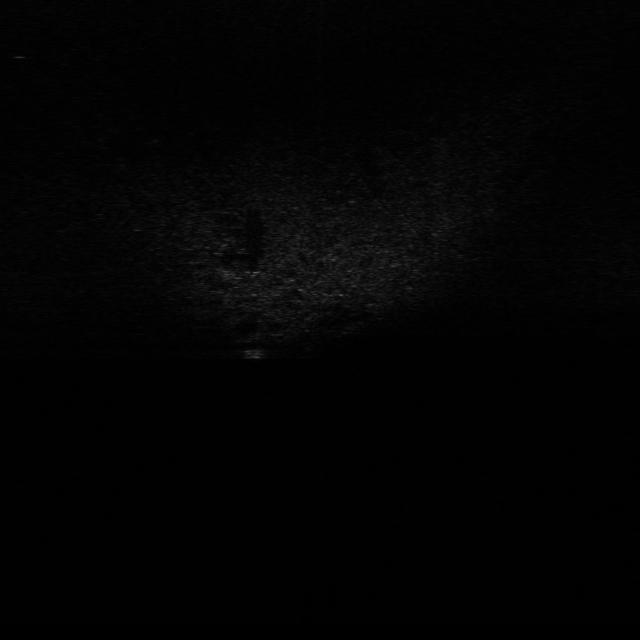cube: (242, 342, 269, 366)
